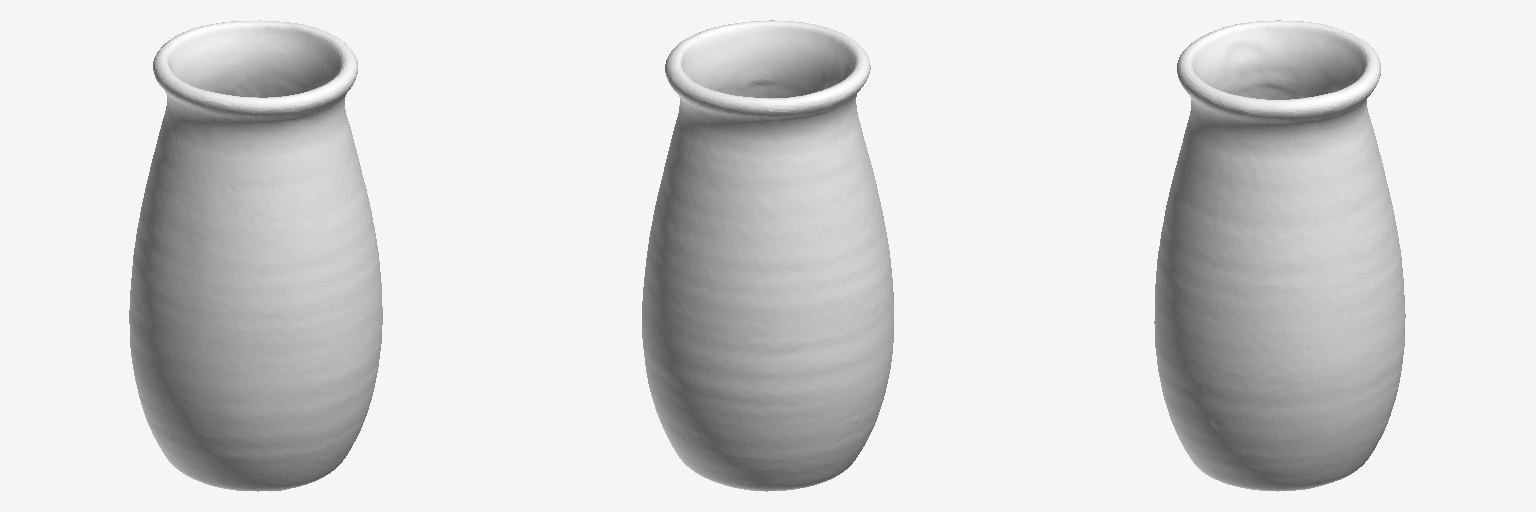
The robot description file, URDF, robot "model.urdf":
<robot name="model.urdf">
    <link name="baseLink">
        <contact>
            <lateral_friction value="0.4"/>
            <rolling_friction value="1"/>
            <spinning_friction value="1"/>
            <contact_cfm value="0.0"/>
            <contact_erp value="1.0"/>
        </contact>
        <inertial>
            <origin rpy="0 0 0" xyz="0.000 0.000 -0.05"/>
            <mass value="1.5"/>
            <inertia ixx="1e-3" ixy="0" ixz="0" iyy="1e-3" iyz="0" izz="1e-3"/>
        </inertial>
        <visual>
            <geometry>
                <mesh filename="nontextured.stl" scale="1 1 1"/>
            </geometry>
            <material name="white">
                <color rgba="1 1 1 1"/>
            </material>
        </visual>
        <collision>
            <geometry>
                <mesh filename="nontextured.stl" scale="1 1 1"/>
            </geometry>
        </collision>
    </link>
</robot>

--- Render facts (derived) ---
3 views of the same robot in one strip: view 1: azimuth 30°, elevation 25°; view 2: azimuth 150°, elevation 25°; view 3: azimuth 270°, elevation 25° (orthographic).
Robot: model.urdf — 1 links, 0 joints (none); root link baseLink; default pose: every joint at zero.
Links seen in each view (by area): view 1: baseLink; view 2: baseLink; view 3: baseLink.
Boxes of the visible links, x1,y1,x2,y2 form: baseLink: (129,20,382,491); baseLink: (642,20,893,491); baseLink: (1154,20,1405,491).
Bounding box of the posed robot: 0.0804 × 0.0796 × 0.1402 m (x, y, z).
Meshes: 1 distinct files referenced, 1 mesh visuals loaded (1 binary STL).